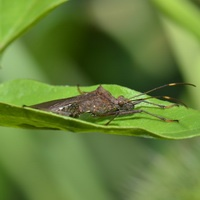insect: (24, 84, 179, 124)
